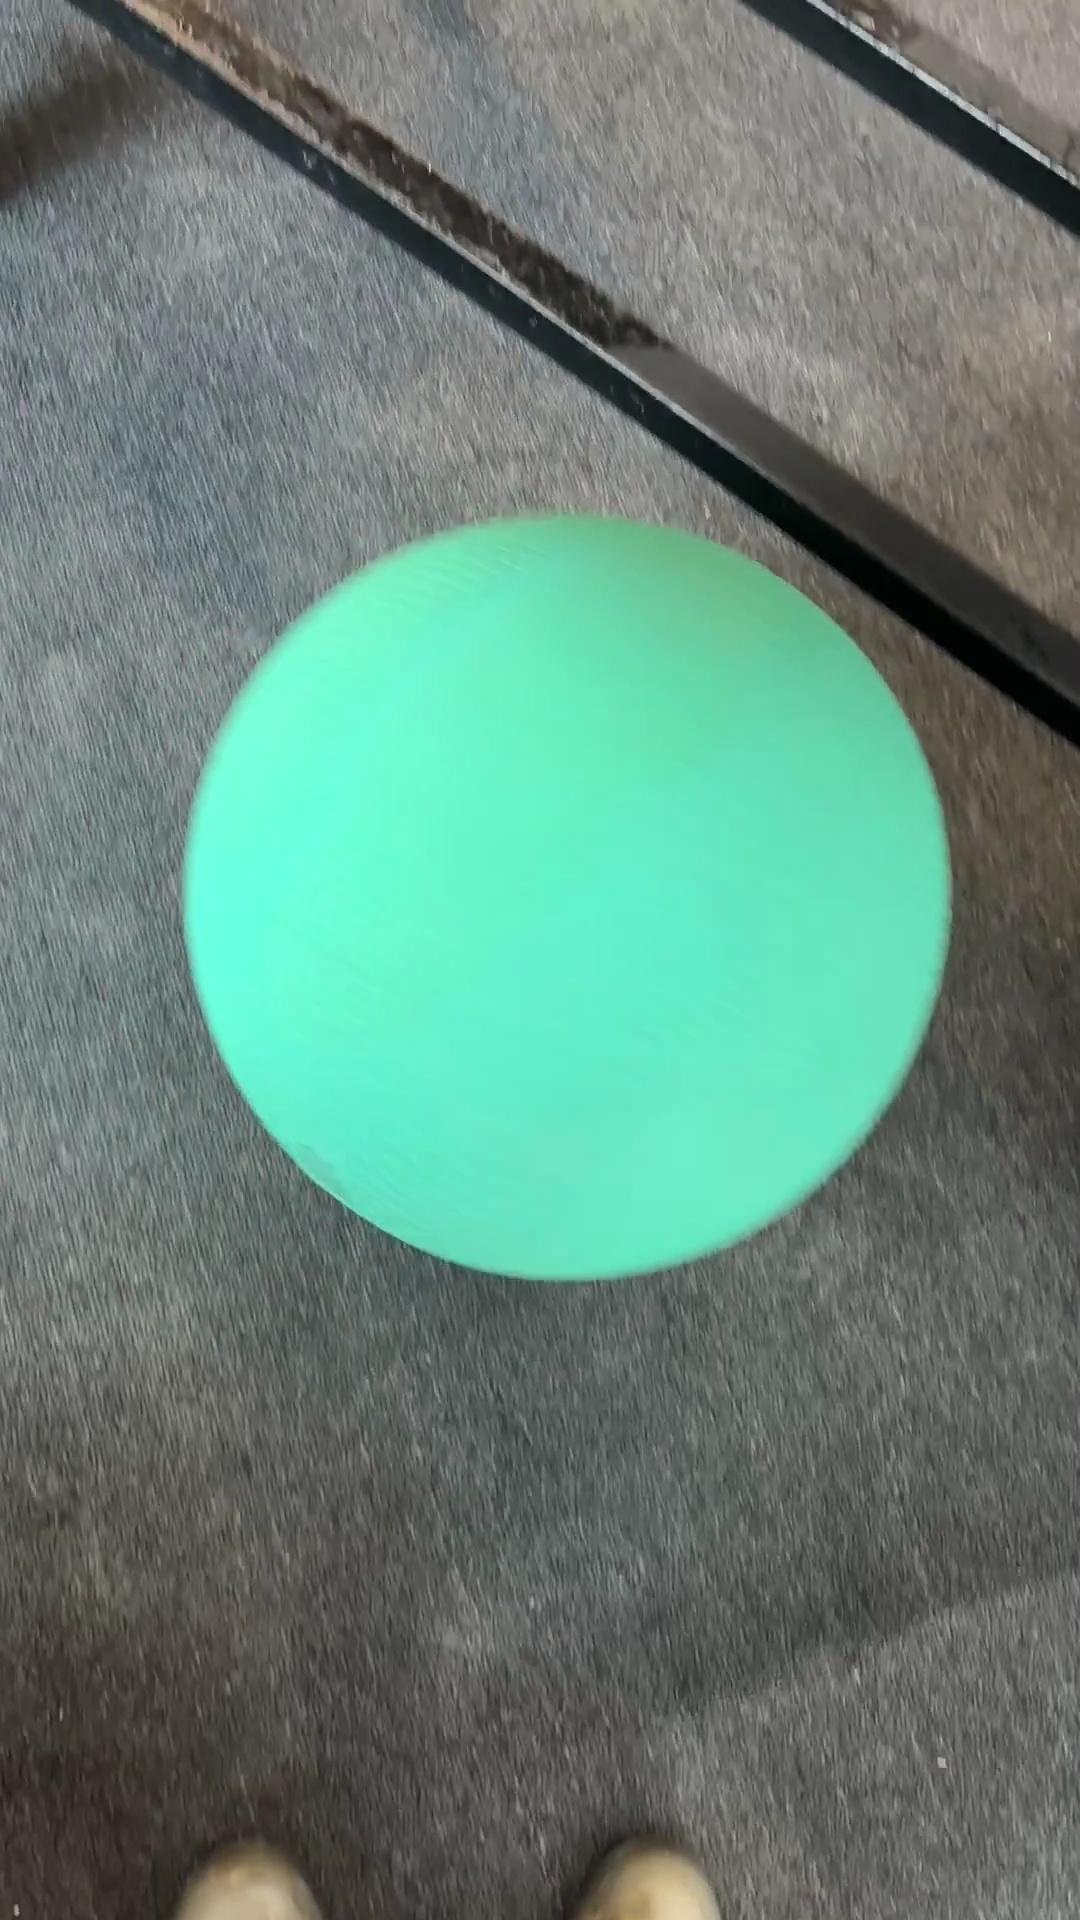ALGAE: (177, 509, 955, 1284)
